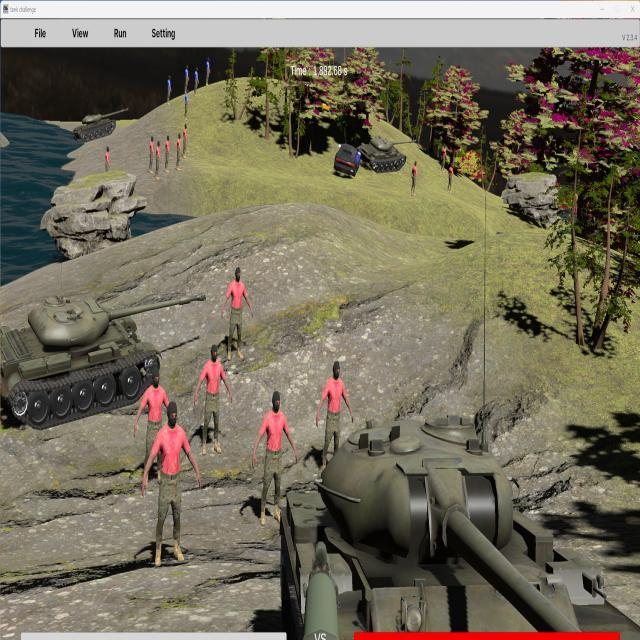Human: (142, 398, 202, 566), (252, 389, 299, 527), (133, 364, 176, 488), (315, 359, 354, 483), (194, 344, 232, 455), (221, 268, 253, 364)
Tank: (275, 412, 640, 637), (0, 294, 206, 430), (358, 135, 417, 173), (71, 107, 129, 143)
car: (334, 142, 361, 177)
